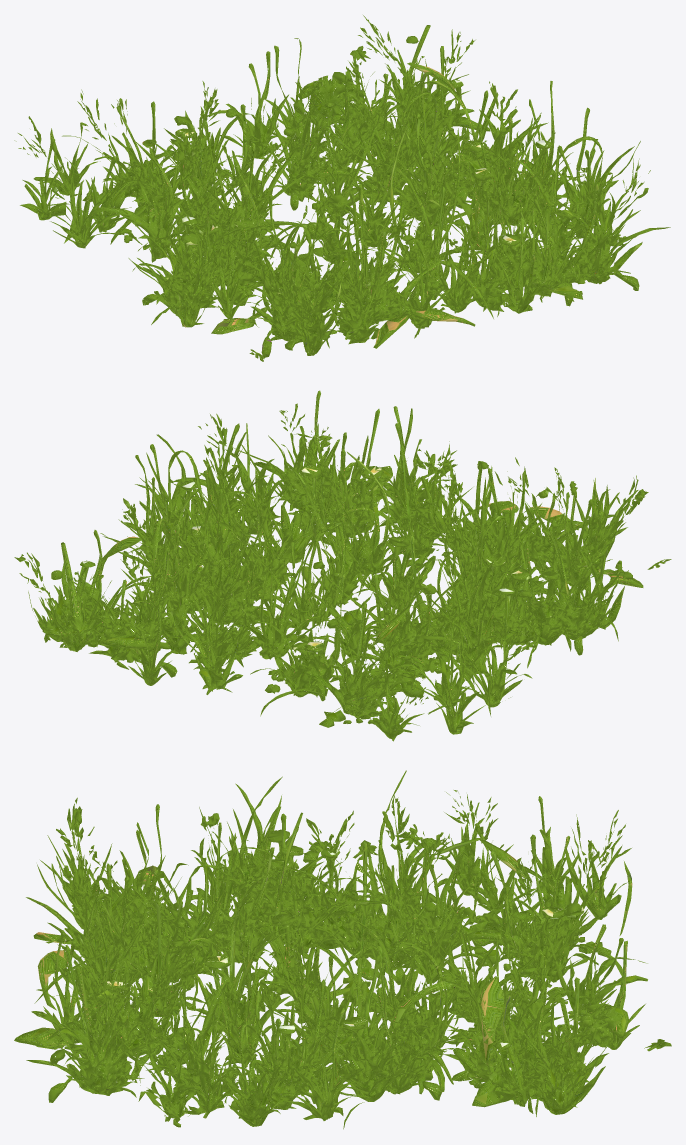
Rendered from daisies.glb.
3 views of the same model, one above another, from view 1: azimuth 30°, elevation 25°; view 2: azimuth 150°, elevation 25°; view 3: azimuth 270°, elevation 25° (orthographic). The views are drawn at different scales.
Bounding box in the file's own units: 1.88 × 0.5083 × 1.89.
Materials: 1 (1 with a texture image).
